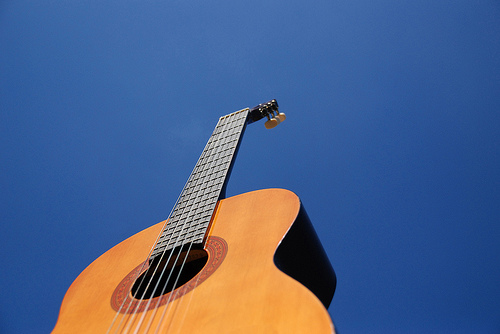guitar: (50, 98, 341, 334)
